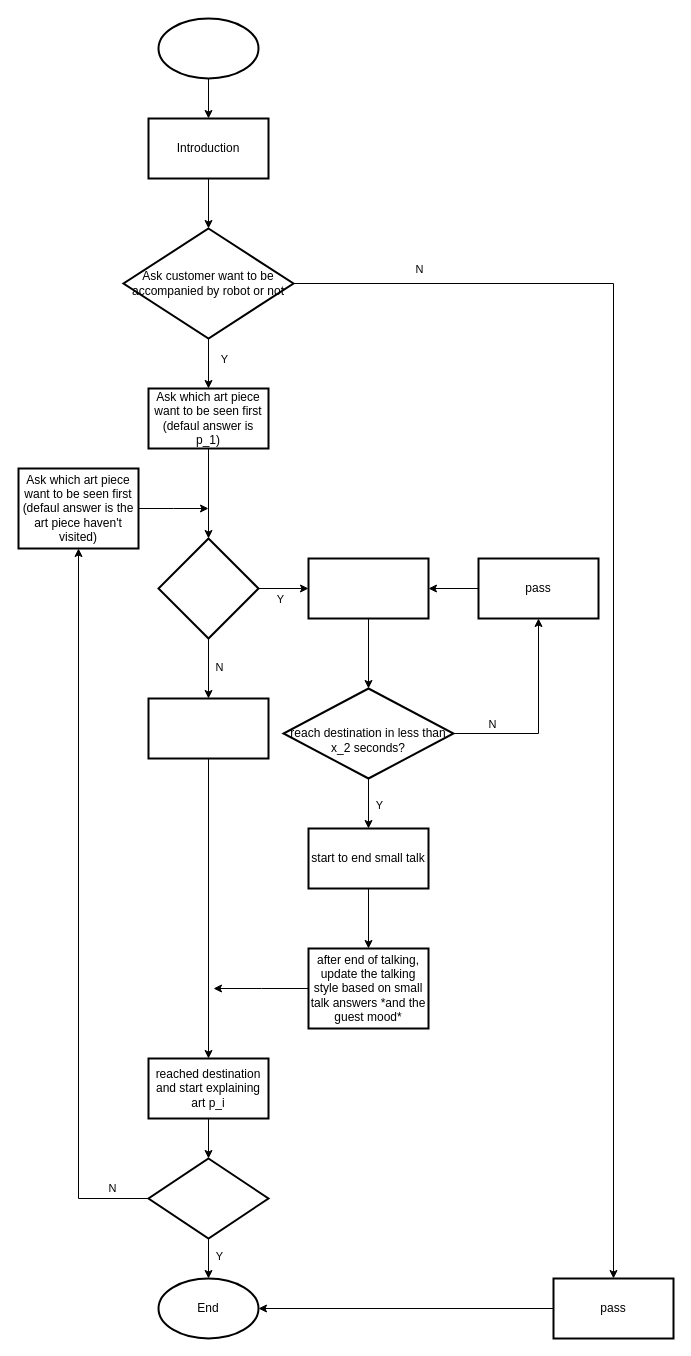
The diagram is 691 pixels wide and 1356 high, and some of its shapes have lost their labels. Here are the shapes that lost their labels. From the top down, the centre of each, then its label:
At pixel 208 48: "Start".
At pixel 208 588: "time to reach p_i is t>x_1?".
At pixel 368 588: "Do small talk while going to the art piece p_i".
At pixel 208 728: "No small talk while going to the art piece p_i".
At pixel 208 1198: "Is there any interruption?".
